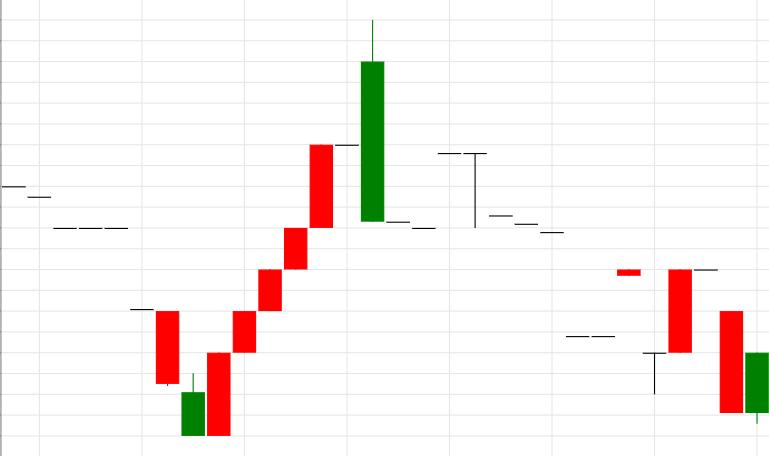bullish_engulfing_rise: (2, 186, 231, 437)
three_white_soldiers_rise: (2, 185, 308, 436)
